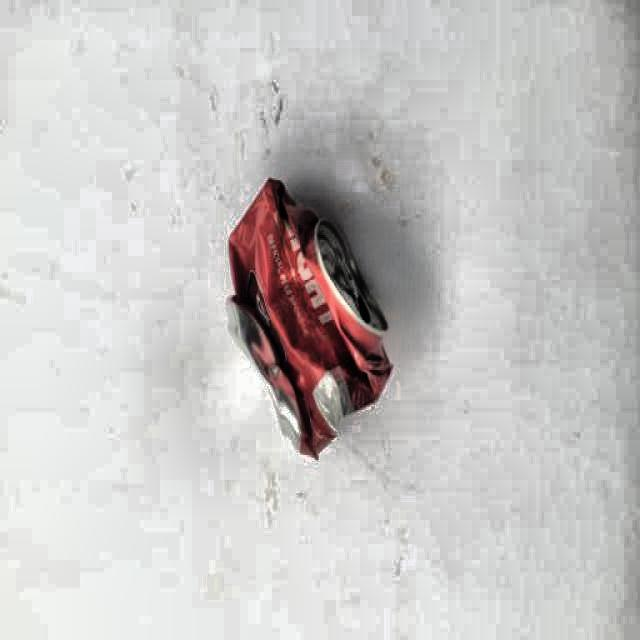metal: (228, 178, 394, 461)
